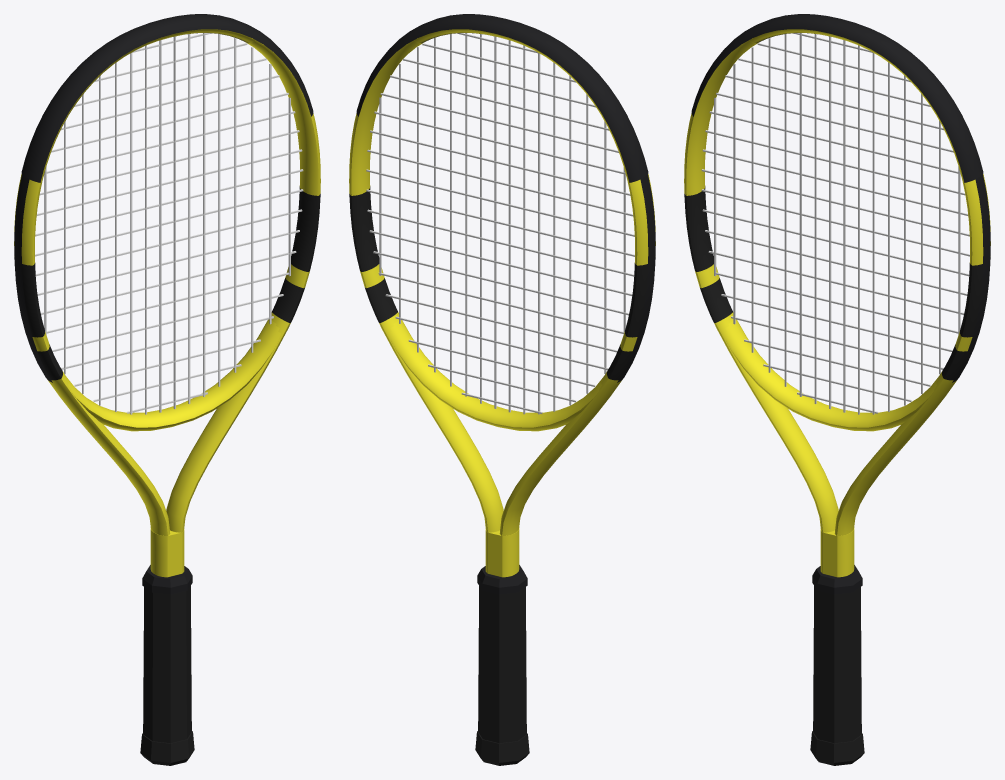
Rendered from babolat-pure-aero-junior-25-2023gen.glb.
3 renders of one model, left to right at view 1: azimuth 30°, elevation 25°; view 2: azimuth 150°, elevation 25°; view 3: azimuth 330°, elevation 25°, orthographic.
Parts seen in each view (by area): view 1: frame, strings_mains, strings_crosses, grip, bumper, grommets, butt_cap, collar; view 2: frame, strings_mains, strings_crosses, grip, bumper, grommets, butt_cap, collar; view 3: frame, strings_mains, strings_crosses, grip, bumper, grommets, butt_cap, collar.
Part boxes in pixels (x1,y1,x2,y2): frame: [14, 29, 320, 577]; strings_mains: [44, 33, 290, 414]; strings_crosses: [35, 33, 303, 413]; grip: [143, 586, 191, 743]; bumper: [21, 14, 313, 182]; grommets: [14, 174, 52, 382]; butt_cap: [140, 731, 194, 765]; collar: [142, 565, 192, 594]; frame: [349, 29, 655, 577]; strings_mains: [379, 33, 625, 414]; strings_crosses: [366, 33, 634, 413]; grip: [478, 586, 526, 743]; bumper: [356, 14, 648, 182]; grommets: [617, 174, 655, 382]; butt_cap: [475, 731, 529, 765]; collar: [477, 565, 527, 594]; frame: [684, 29, 990, 577]; strings_mains: [714, 33, 960, 414]; strings_crosses: [701, 33, 969, 413]; grip: [813, 586, 861, 743]; bumper: [691, 14, 983, 182]; grommets: [952, 174, 990, 382]; butt_cap: [810, 731, 864, 765]; collar: [812, 565, 862, 594].
Size of the model in its own units: 0.2717 by 0.6353 by 0.0396.
